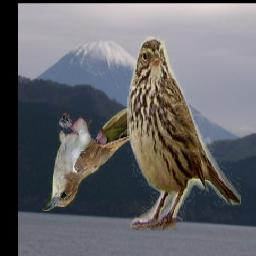Cuckoo: (42, 104, 162, 212)
Sparrow: (127, 37, 241, 231)
